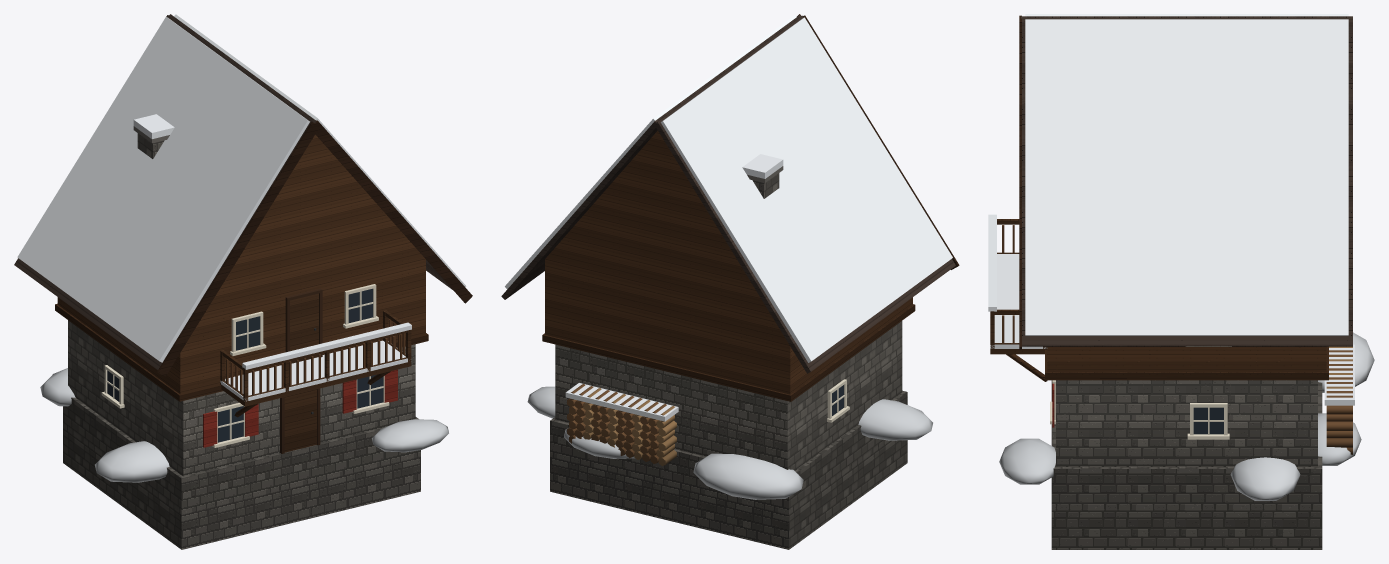
The model's file is cabana_alpina_neve.glb.
3 views of the same model, side by side, from view 1: azimuth 30°, elevation 25°; view 2: azimuth 150°, elevation 25°; view 3: azimuth 270°, elevation 25° (orthographic). The views are drawn at different scales.
Parts seen in each view (by area): view 1: cabana_alpina_neve, cabana_alpina_neve_madeira; view 2: cabana_alpina_neve, cabana_alpina_neve_madeira; view 3: cabana_alpina_neve, cabana_alpina_neve_madeira.
Boxes of the visible parts, x1,y1,x2,y2 form: cabana_alpina_neve: [17, 14, 466, 549]; cabana_alpina_neve_madeira: [14, 14, 472, 452]; cabana_alpina_neve: [505, 15, 952, 549]; cabana_alpina_neve_madeira: [501, 14, 959, 401]; cabana_alpina_neve: [988, 14, 1374, 549]; cabana_alpina_neve_madeira: [990, 15, 1352, 427].
Bounding box in the file's own units: 10.22 × 11.8 × 8.85.
Materials: 3 (2 with a texture image).
